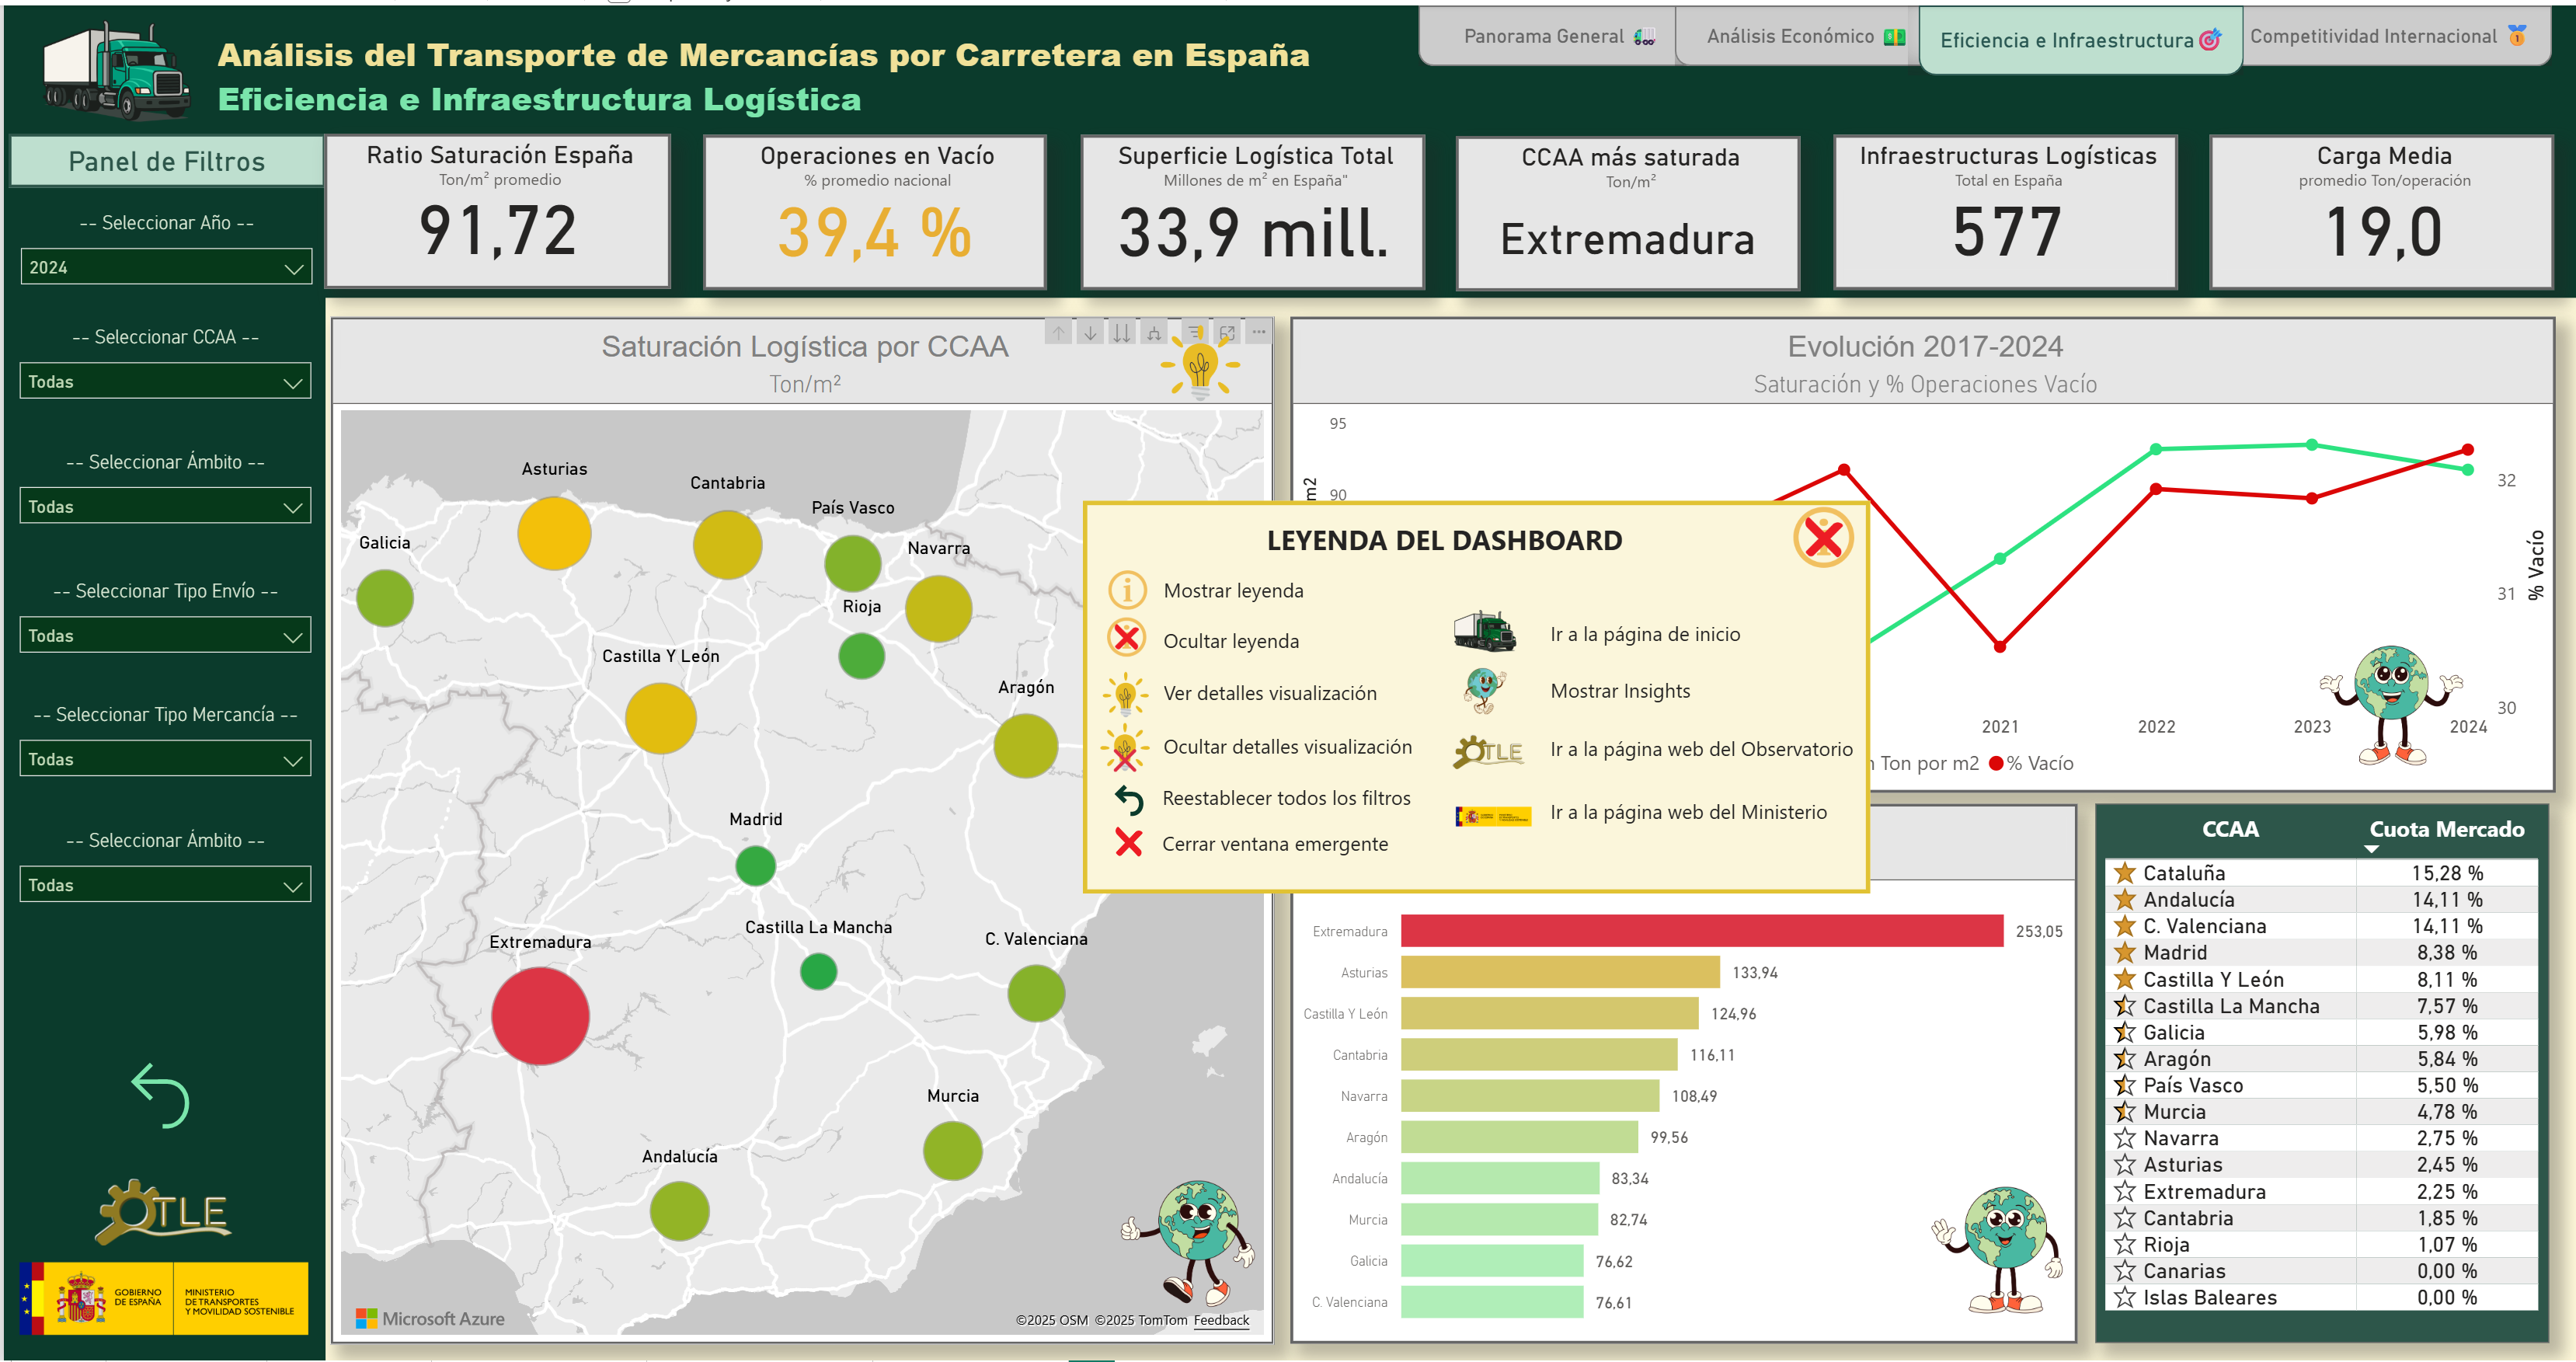

The page's visual inventory and layout, read from the dashboard file:
{"tool":"powerbi","page":{"name":"Eficiencia e Infraestructura","canvas":[1747,920],"ordinal":3},"visuals":[{"type":"group","id":"g1","title":"Panel diseño","box":[0,0,1747,919.7],"z":0},{"type":"shape","box":[0,0,1747,198.6],"z":0,"group":"g1"},{"type":"shape","box":[0,81.2,218.5,838.5],"z":1000,"group":"g1"},{"type":"cardVisual","title":"Infraestructuras Logísticas","fields":{"Data":["Medidas Eficiencia e Infraestructura.Tipos Infraestructura"]},"box":[1242.3,87.8,234.2,105],"z":1000},{"type":"textbox","box":[140.3,12.6,782.4,71],"z":2000,"group":"g1"},{"type":"image","title":"Info Pag 3","box":[75.5,626.8,65.6,71],"z":2000},{"type":"slicer","title":"-- Seleccionar Año --","fields":{"Values":["Dim Año.Año"]},"box":[1.8,140.1,218,63.9],"z":3000},{"type":"slicer","title":"-- Seleccionar CCAA --","fields":{"Values":["CCAA Dim.CCAA"]},"box":[0.9,218,218,63],"z":4000},{"type":"slicer","title":"-- Seleccionar Ámbito --","fields":{"Values":["Tipo Envio Dim.Ámbito"]},"box":[0.9,302,218,63.9],"z":5000},{"type":"slicer","title":"-- Seleccionar Tipo Envío --","fields":{"Values":["Tipo Envio Dim.Tipo Envío"]},"box":[1,390.4,218,63.9],"z":6000},{"type":"textbox","box":[3.2,87,215.2,36.4],"z":7000},{"type":"cardVisual","title":"Ratio Saturación España","fields":{"Data":["Avg(KPI Saturación Logística.Saturacion Ton por m2)"]},"box":[217.6,87,235,105],"z":8000},{"type":"cardVisual","title":"Operaciones en Vacío","fields":{"Data":["Medidas Eficiencia e Infraestructura.Promedio Op Vacio (%)"]},"box":[474.8,87.8,233.4,105],"z":9000},{"type":"cardVisual","title":"Superficie Logística Total","fields":{"Data":["Sum(KPI Saturación Logística.Superficie m2)"]},"box":[731.2,87.8,234.2,105],"z":10000},{"type":"cardVisual","title":"CCAA más saturada","fields":{"Data":["Min(Dim CCAA.CCAA)"]},"box":[985.9,88.6,234.2,105],"z":11000},{"type":"slicer","title":"-- Seleccionar Tipo Mercancía --","fields":{"Values":["Dim Infraestructuras.Tipo Infraestructura"]},"box":[0.9,473.6,218,63],"z":13000},{"type":"azureMap","title":"Saturación Logística por CCAA","fields":{"Category":["Dim CCAA.CCAA","C0516 Infraestructuras Logísticas.Provincia"],"Size":["Avg(KPI Saturación Logística.Saturacion Ton por m2)"]},"box":[221.6,211.2,641.2,697.8],"z":14000},{"type":"shape","box":[1512.6,0,218.2,41.2],"z":15000},{"type":"shape","box":[960.6,0,194.7,41.1],"z":16000},{"type":"shape","box":[1134.7,0,181.2,41.1],"z":17000},{"type":"image","box":[4,846.7,208.9,62.5],"z":18000},{"type":"image","box":[6.3,791.4,204.1,55.8],"z":19000},{"type":"actionButton","box":[77.3,711.3,65.6,57.6],"z":20000},{"type":"shape","box":[1293,0,227.9,47.5],"z":21000},{"type":"cardVisual","title":"Carga Media","fields":{"Data":["Medidas Eficiencia e Infraestructura.Carga media por op"]},"box":[1497.9,87.8,234.2,105],"z":22000},{"type":"lineChart","title":"Evolución 2017-2024","fields":{"Category":["Dim Año.Año"],"Y":["Avg(KPI Saturación Logística.Saturacion Ton por m2)"],"Y2":["Avg(C0285 Operaciones Vacío.% Vacío)"]},"box":[873.6,211.3,859.3,323.6],"z":23000},{"type":"clusteredBarChart","title":"Top 10 CCAA","fields":{"Category":["Dim CCAA.CCAA"],"Y":["Avg(KPI Saturación Logística.Saturacion Ton por m2)"]},"box":[873.2,542.2,534.7,366.8],"z":24000},{"type":"slicer","title":"-- Seleccionar Ámbito --","fields":{"Values":["Dim Infraestructuras.Funcion"]},"box":[1,559.4,218,63.9],"z":25000},{"type":"tableEx","fields":{"Values":["Dim CCAA.CCAA","KPI Cuota Mercado CCAA.Cuota Mercado"]},"box":[1420.4,542,307.8,366],"z":26000},{"type":"image","box":[1567.5,415.4,107.6,119.5],"z":29000},{"type":"image","box":[9.9,0,133.1,86.3],"z":31000},{"type":"image","box":[1303.3,796.8,100.5,99.7],"z":34000},{"type":"image","box":[752.5,791.3,102.1,99.7],"z":35000},{"type":"image","box":[777.9,211.3,70.1,62.9],"z":37000}]}

Visuals, with their boxes in screenshot pixels (x1, y1, x2, y2), scaled from the page's 1747x920 canvas onto the 2576x1362 screenshot:
"Panel diseño" group: locate(0, 0, 2575, 1361)
shape: locate(0, 0, 2575, 294)
shape: locate(0, 120, 322, 1361)
"Infraestructuras Logísticas" cardVisual: locate(1832, 130, 2177, 285)
textbox: locate(207, 19, 1360, 124)
"Info Pag 3" image: locate(111, 928, 208, 1033)
"-- Seleccionar Año --" slicer: locate(2, 207, 324, 302)
"-- Seleccionar CCAA --" slicer: locate(2, 322, 322, 416)
"-- Seleccionar Ámbito --" slicer: locate(2, 447, 322, 542)
"-- Seleccionar Tipo Envío --" slicer: locate(2, 578, 323, 673)
textbox: locate(5, 129, 322, 183)
"Ratio Saturación España" cardVisual: locate(321, 129, 667, 284)
"Operaciones en Vacío" cardVisual: locate(700, 130, 1044, 285)
"Superficie Logística Total" cardVisual: locate(1078, 130, 1423, 285)
"CCAA más saturada" cardVisual: locate(1453, 131, 1799, 287)
"-- Seleccionar Tipo Mercancía --" slicer: locate(2, 701, 322, 794)
"Saturación Logística por CCAA" azureMap: locate(327, 312, 1272, 1346)
shape: locate(2230, 0, 2552, 61)
shape: locate(1416, 0, 1704, 61)
shape: locate(1673, 0, 1941, 61)
image: locate(6, 1253, 314, 1346)
image: locate(9, 1172, 310, 1254)
actionButton: locate(114, 1053, 211, 1138)
shape: locate(1906, 0, 2243, 71)
"Carga Media" cardVisual: locate(2209, 130, 2554, 285)
"Evolución 2017-2024" lineChart: locate(1288, 313, 2555, 792)
"Top 10 CCAA" clusteredBarChart: locate(1287, 803, 2076, 1346)
"-- Seleccionar Ámbito --" slicer: locate(2, 828, 323, 923)
tableEx - Dim CCAA.CCAA x KPI Cuota Mercado CCAA.Cuota Mercado: locate(2094, 803, 2548, 1344)
image: locate(2311, 615, 2470, 792)
image: locate(15, 0, 211, 127)
image: locate(1922, 1179, 2070, 1327)
image: locate(1109, 1172, 1260, 1319)
image: locate(1147, 313, 1251, 406)
